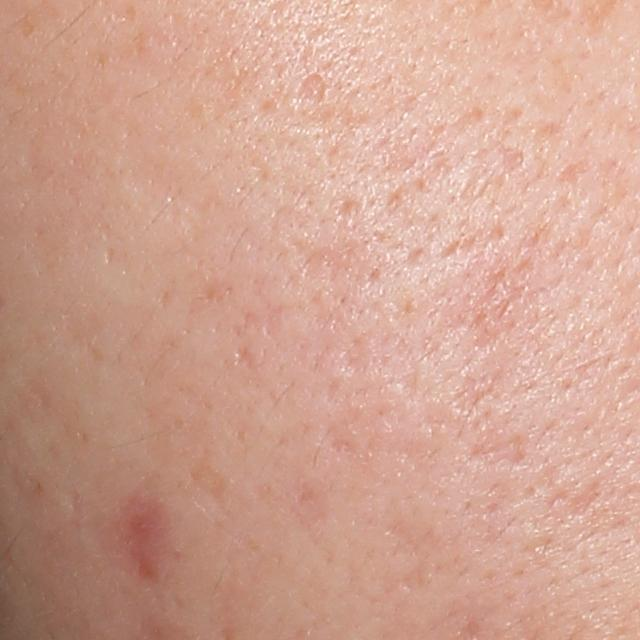atrophic_scar: (280, 190, 380, 296), (122, 153, 227, 228), (470, 424, 533, 474), (297, 70, 327, 101), (103, 246, 116, 265)
